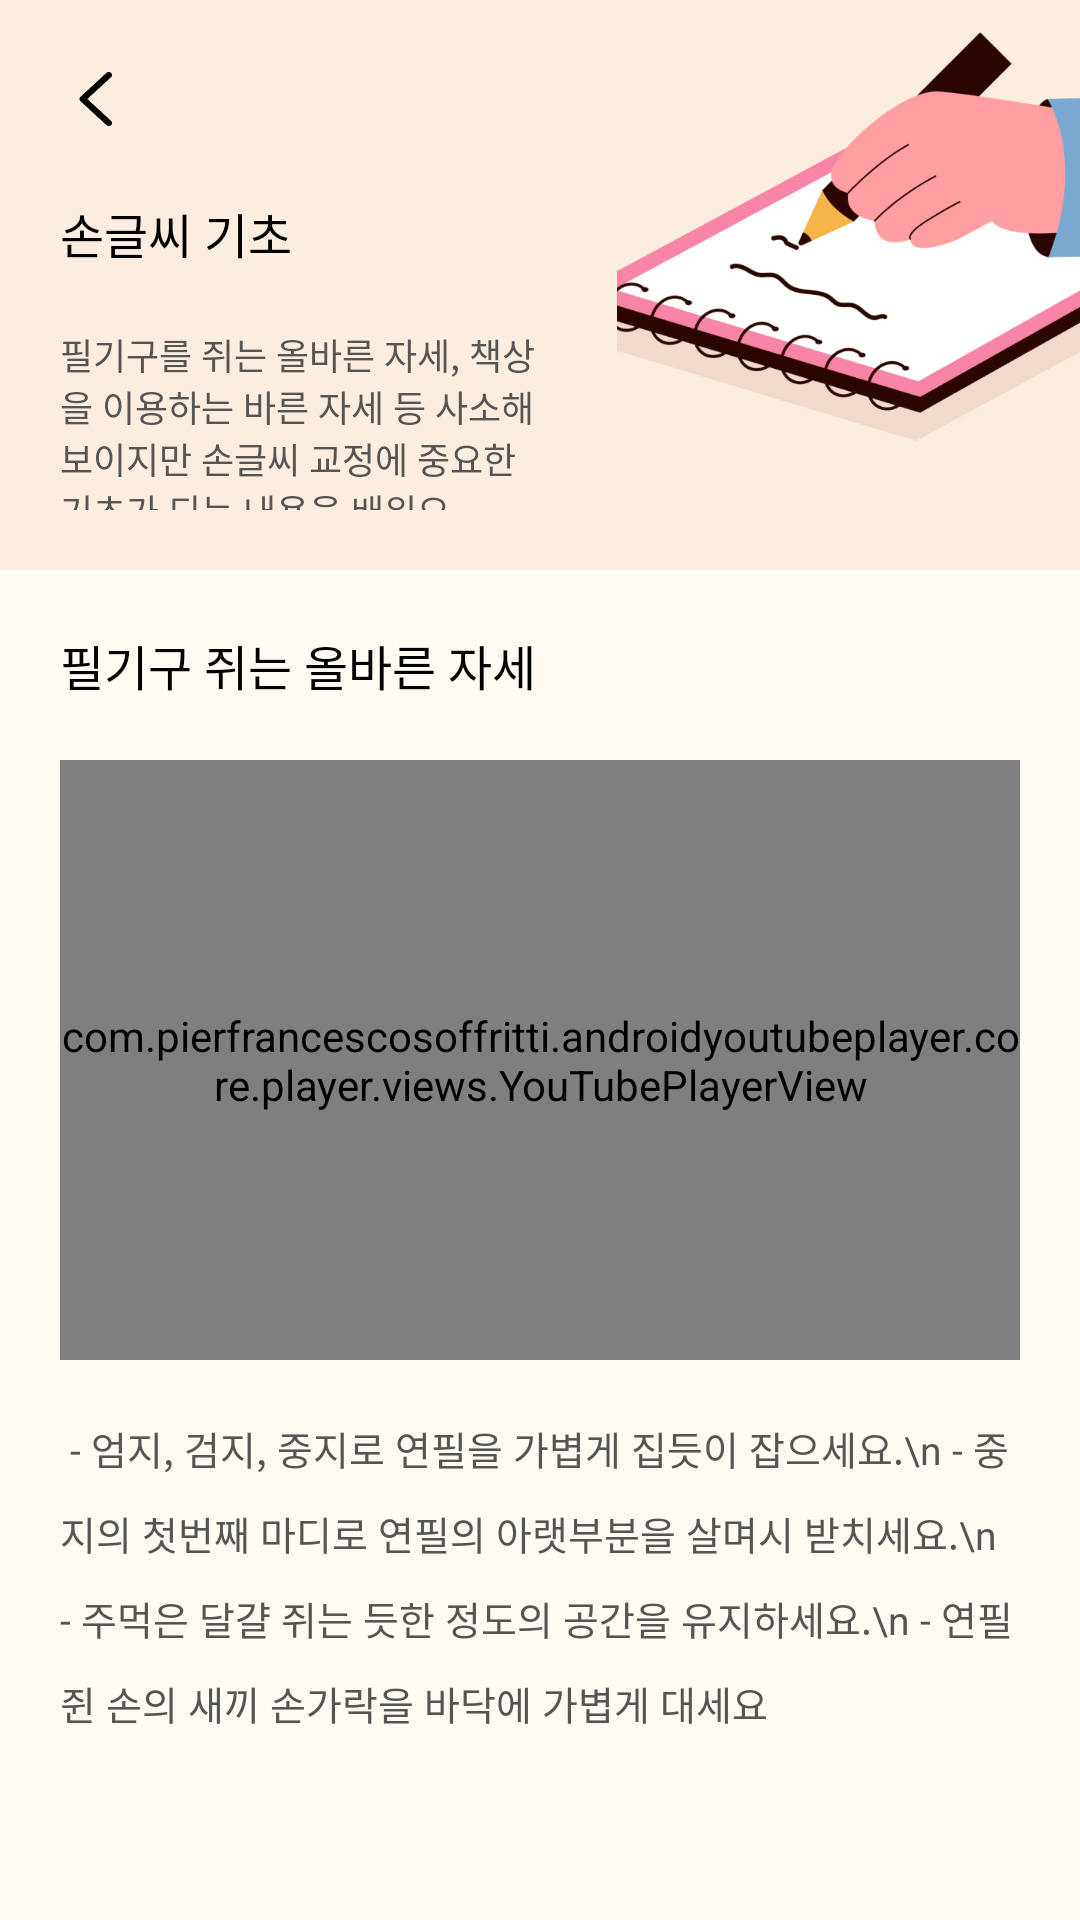

Icon click points for this 1080 x 1920 phone screenshot, format [x,y]:
back: [95,99]
